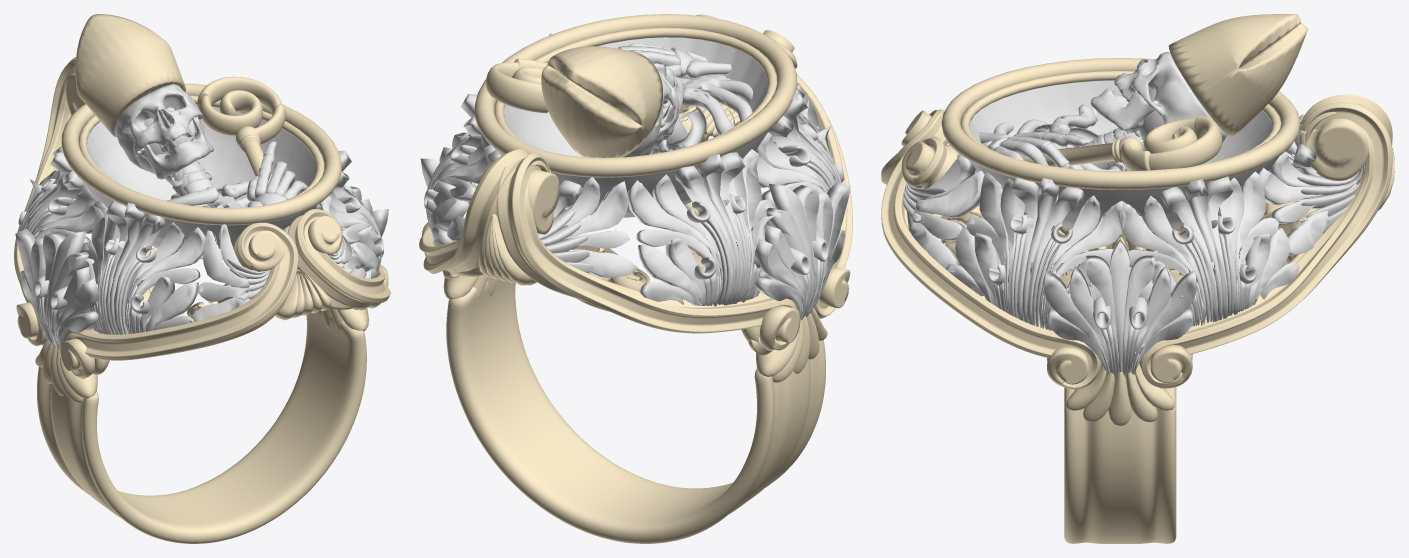
File: saint2.glb
The picture shows the model from 3 angles, left to right: view 1: azimuth 30°, elevation 25°; view 2: azimuth 150°, elevation 25°; view 3: azimuth 270°, elevation 25°; orthographic projection. The views are drawn at different scales.
Visible parts, largest first — view 1: Tube011, santopart001, Loft062, mitra003, Loft067, bastone001, Loft059, Loft066, Sphere011, Sphere008, Line937, Cylinder060 (+35 smaller); view 2: Tube011, Loft062, santopart001, Loft066, mitra003, Loft058, bastone001, Sphere011, Loft067, Sphere006, Line917, Sphere012 (+36 smaller); view 3: santopart001, Tube011, Loft062, Loft058, mitra003, Loft059, bastone001, Sphere002, Cylinder053, Sphere009, Line852, Line704 (+48 smaller).
Part boxes in pixels (<box>): Tube011: <box>37,310,366,543</box>; santopart001: <box>82,84,316,259</box>; Loft062: <box>61,83,341,225</box>; mitra003: <box>75,14,185,137</box>; Loft067: <box>66,222,298,378</box>; bastone001: <box>197,76,289,231</box>; Loft059: <box>287,209,390,310</box>; Loft066: <box>14,57,76,345</box>; Sphere011: <box>35,247,157,403</box>; Sphere008: <box>275,272,331,320</box>; Line937: <box>127,227,205,333</box>; Cylinder060: <box>248,230,284,271</box>; Tube011: <box>446,279,825,543</box>; Loft062: <box>474,14,797,177</box>; santopart001: <box>494,37,772,217</box>; Loft066: <box>496,152,796,355</box>; mitra003: <box>541,46,662,157</box>; Loft058: <box>419,149,548,278</box>; bastone001: <box>486,58,548,113</box>; Sphere011: <box>684,203,827,382</box>; Loft067: <box>768,37,852,318</box>; Sphere006: <box>478,213,537,285</box>; Line917: <box>627,180,720,306</box>; Sphere012: <box>537,208,593,273</box>; santopart001: <box>958,52,1279,234</box>; Tube011: <box>1064,264,1176,543</box>; Loft062: <box>941,58,1300,189</box>; Loft058: <box>1139,102,1392,388</box>; mitra003: <box>1168,14,1307,137</box>; Loft059: <box>881,136,1101,389</box>; bastone001: <box>1019,115,1222,170</box>; Sphere002: <box>1066,236,1174,425</box>; Cylinder053: <box>1299,118,1368,180</box>; Sphere009: <box>1297,164,1364,233</box>; Line852: <box>915,170,984,217</box>; Line704: <box>1119,201,1203,325</box>.
Size of the model in its own units: 0.0211 by 0.0292 by 0.0272.
